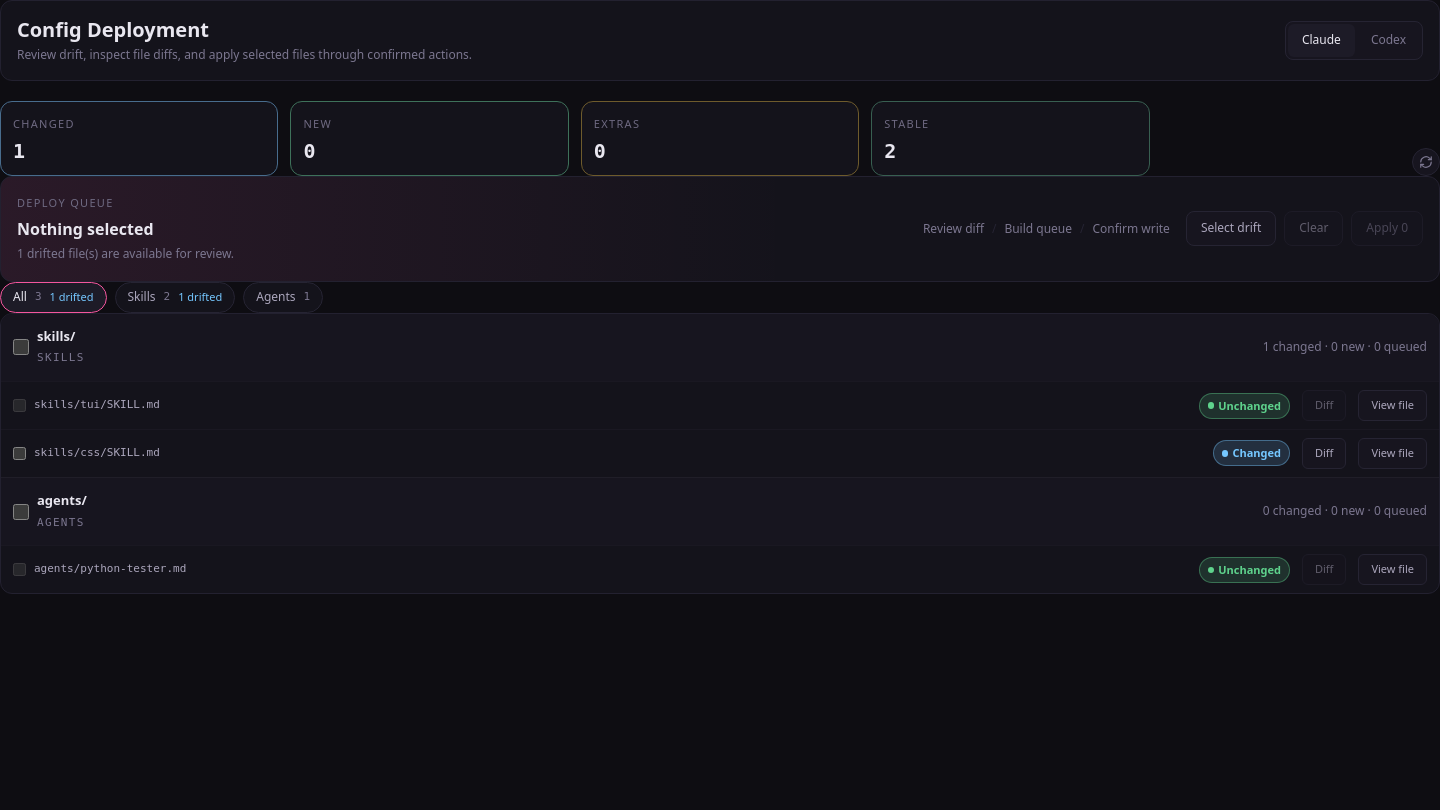
Test case: Deploy config tree › opens a file with no diff and switches between deployed and repo source
This screenshot has width=1440, height=810.
Check: the text "skills/tui/SKILL.md" is shown, box [34,395,160,416]
Check: the button "Diff" in the row of "skills/tui/SKILL.md" is disabled, box [1302,390,1346,421]
Click the button "View file" in the row of "skills/tui/SKILL.md".
click(1393, 406)  # box [1358,390,1427,421]
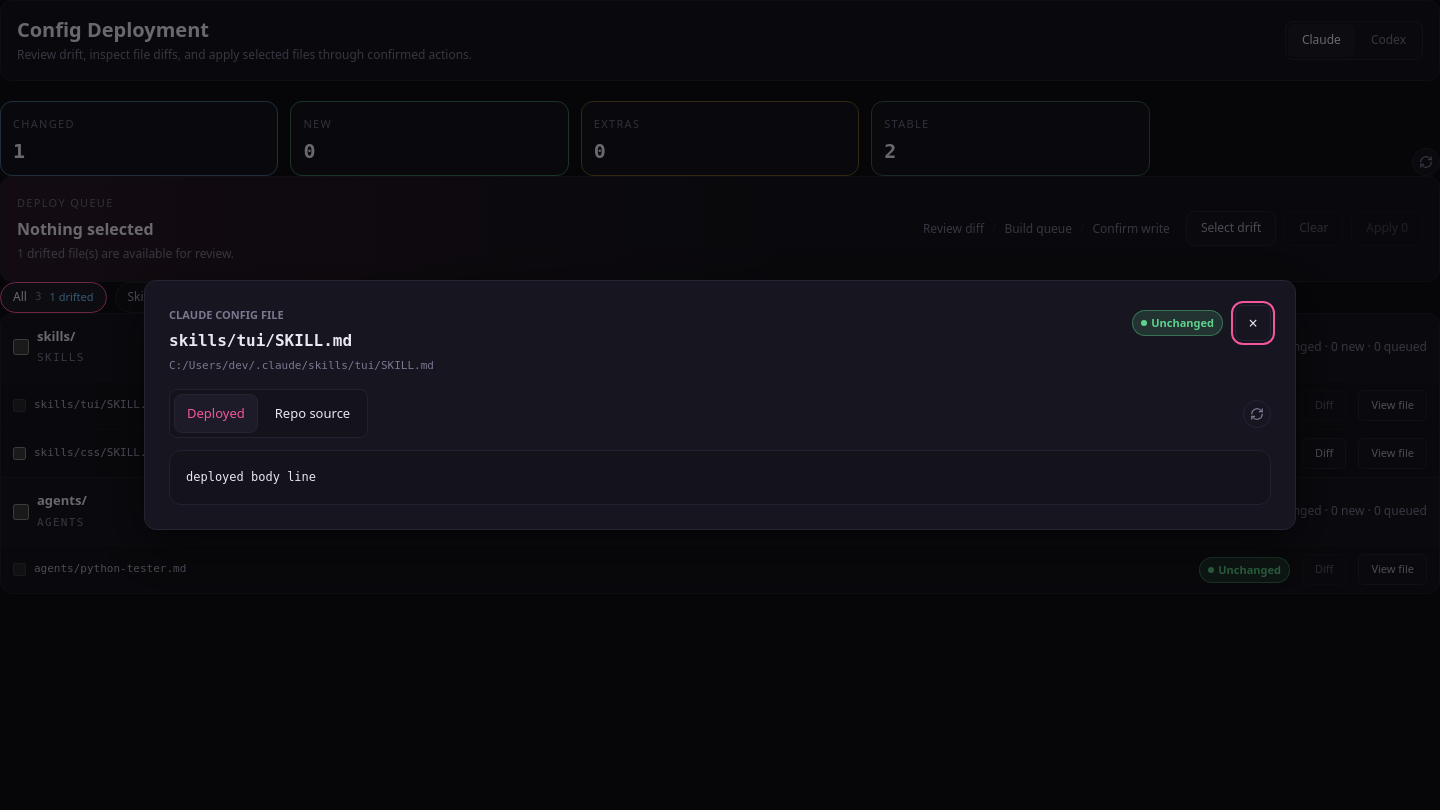
Check: the text "deployed body line" is shown, box [186,470,316,484]
Click the tab "Repo source".
click(312, 414)  # box [262,394,363,433]
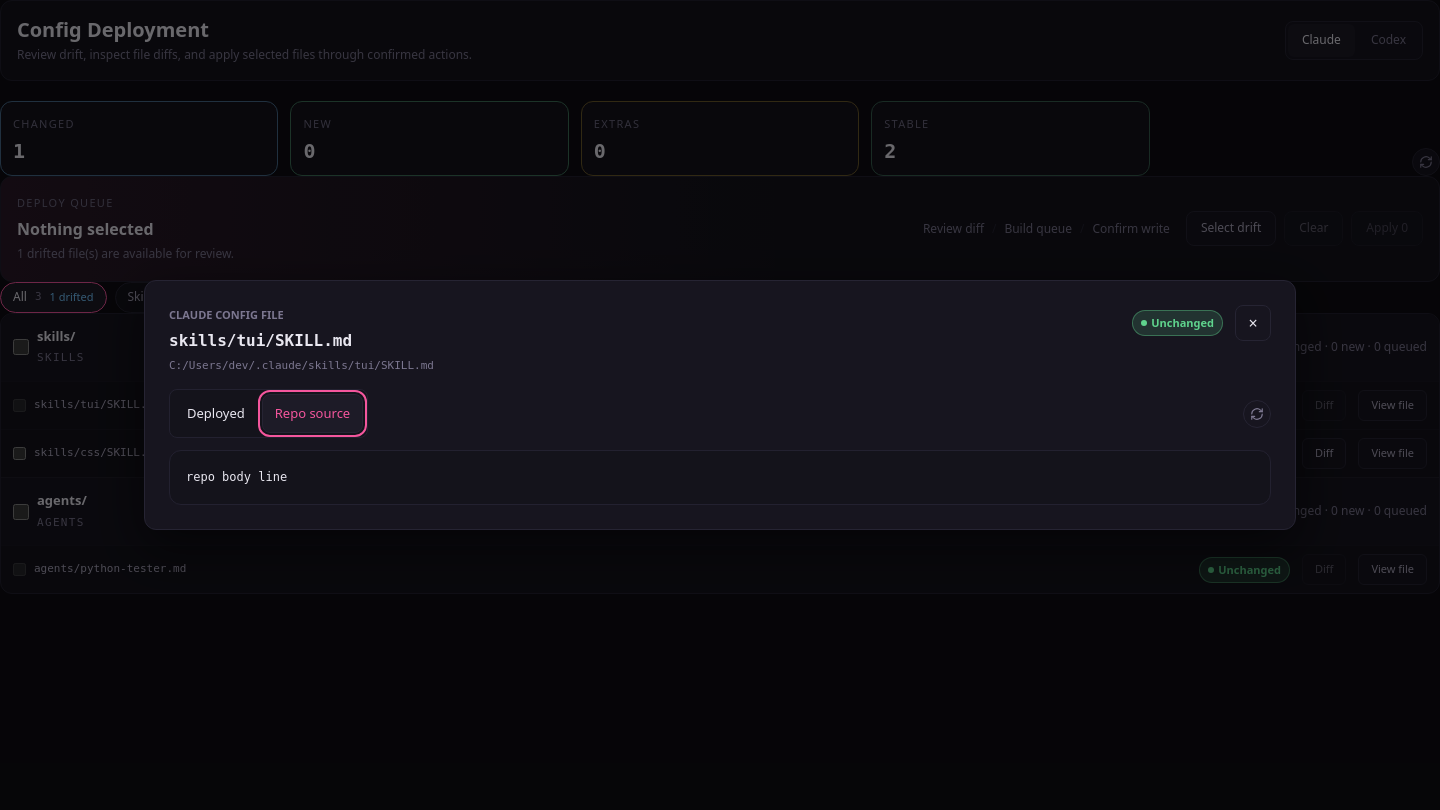
Check: the text "repo body line" is shown, box [186,470,287,484]
